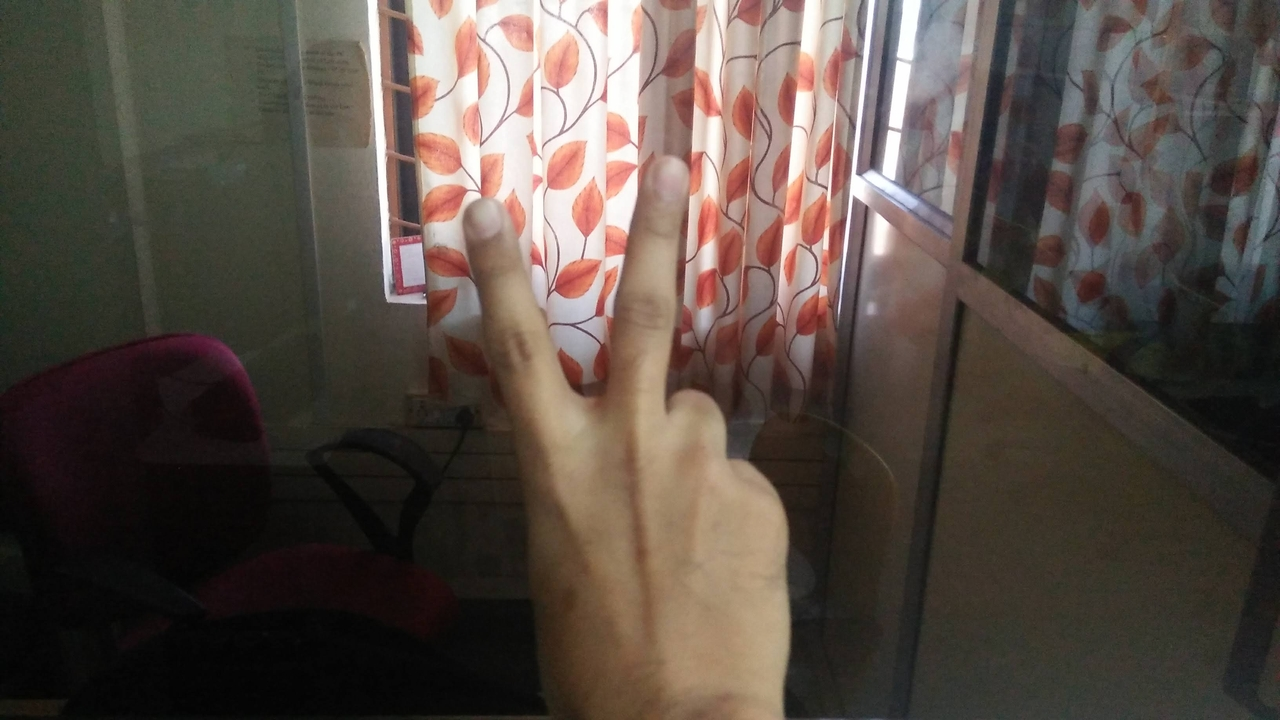fingertip: (636, 142, 698, 204), (458, 188, 516, 252)
